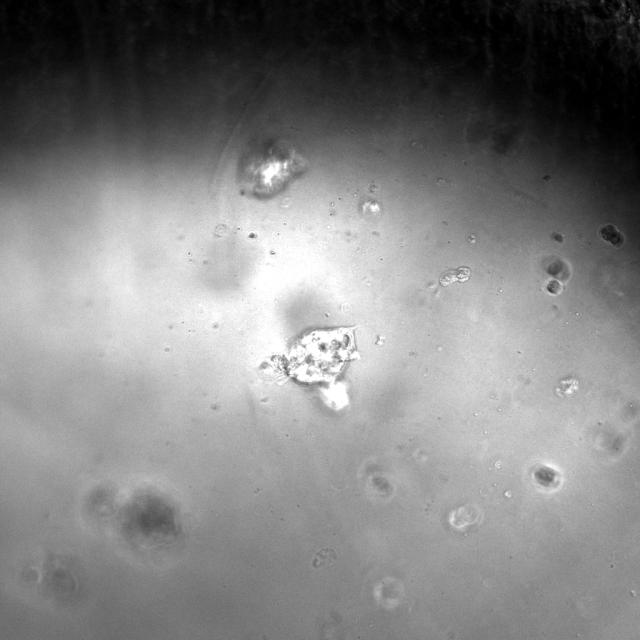organoid: (258, 328, 360, 411), (238, 138, 306, 198), (541, 255, 572, 294), (529, 461, 564, 493), (599, 224, 625, 248), (439, 266, 470, 286), (556, 376, 579, 396), (551, 231, 563, 243)
